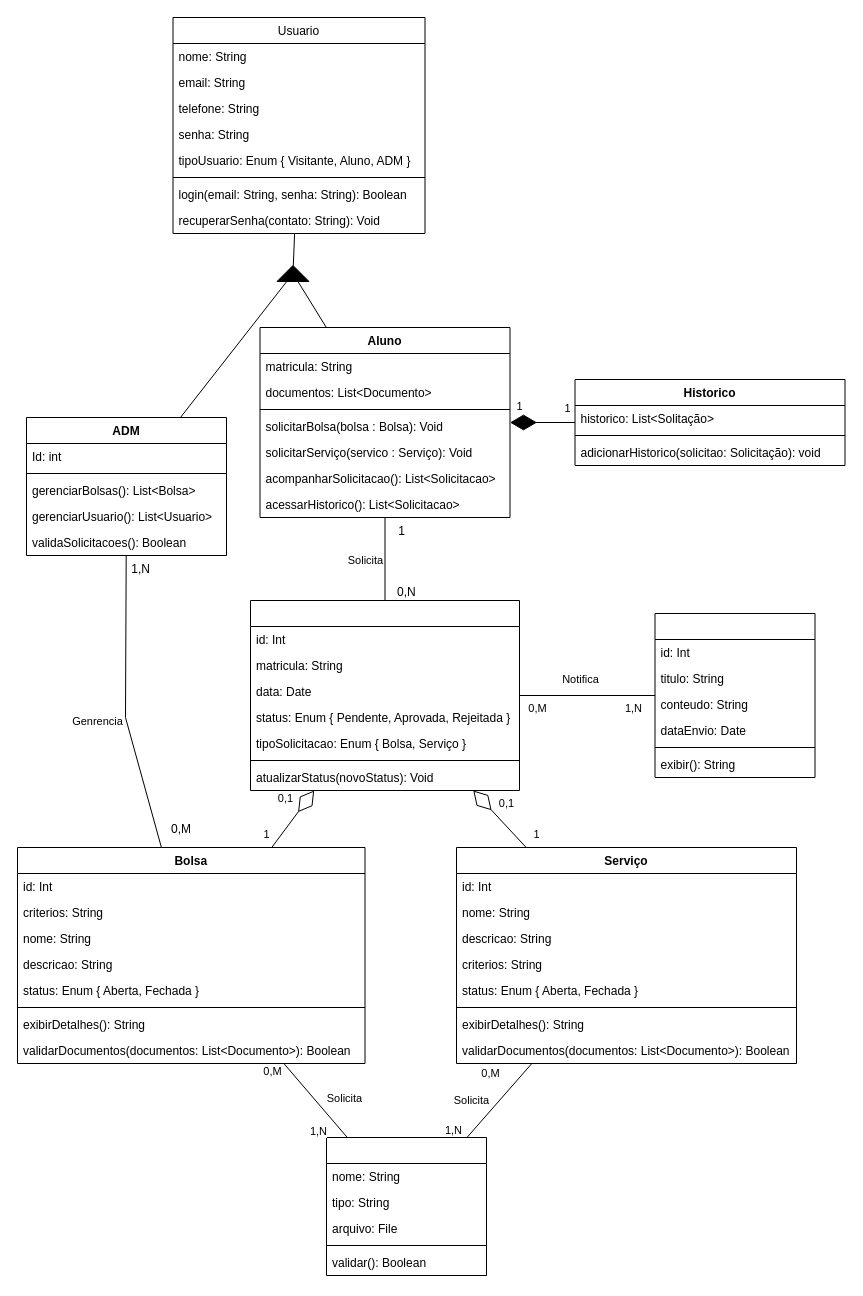
The diagram is 863 pixels wide and 1296 high, and some of its shapes have lost their labels. Here are the shapes that lost their labels. From the top down, the box of each, then its label:
(250, 600, 520, 790): Solicitação
(654, 612, 815, 778): Notificação
(326, 1136, 486, 1276): Documento
